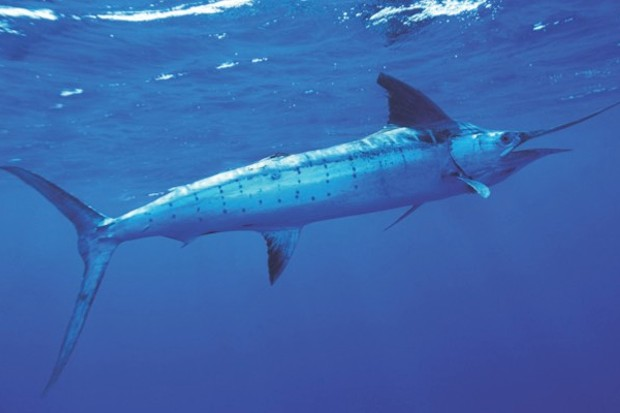swordfish: (14, 76, 620, 366)
